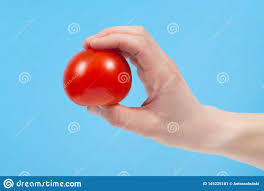tomato: (63, 47, 131, 106)
